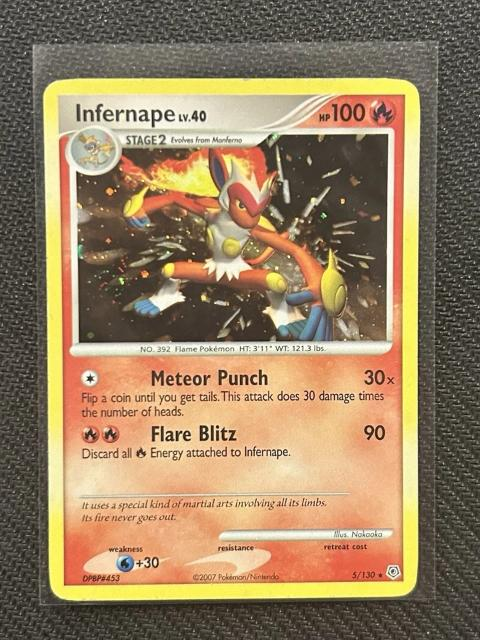Card: (39, 74, 422, 604)
Name: (71, 101, 178, 128)
